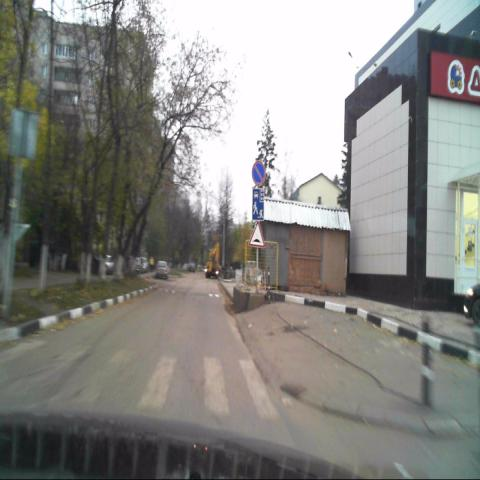5_21: (252, 188, 264, 220)
